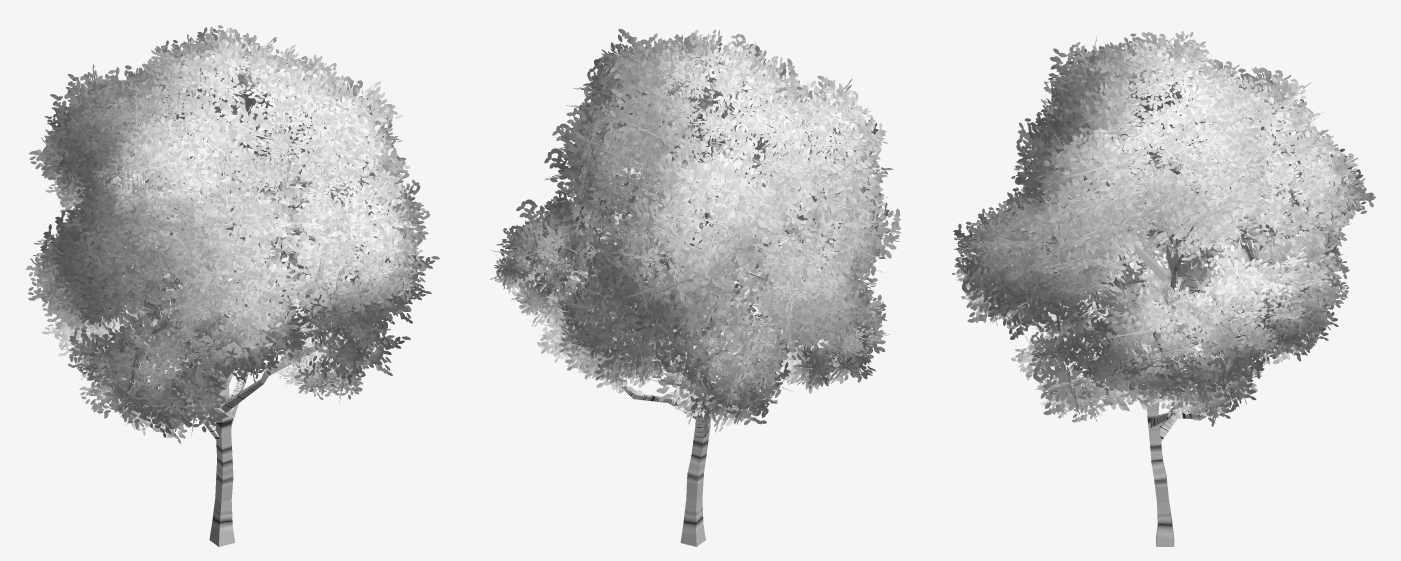
Rendered from BirchTree04.fbx.
The picture shows the model from 3 angles, left to right: view 1: azimuth 30°, elevation 25°; view 2: azimuth 150°, elevation 25°; view 3: azimuth 270°, elevation 25°; orthographic projection. The views are drawn at different scales.
Parts seen in each view (by area): view 1: BirchTree04_LOD0; view 2: BirchTree04_LOD0; view 3: BirchTree04_LOD0.
Part boxes in pixels (box(x1,y1,x2,y2)): BirchTree04_LOD0: box(26, 25, 439, 546); BirchTree04_LOD0: box(489, 29, 901, 546); BirchTree04_LOD0: box(952, 31, 1375, 546).
Size of what is drawn, in the model's own units: 879 by 1129 by 892.
Materials: 2 (2 with a texture image).
